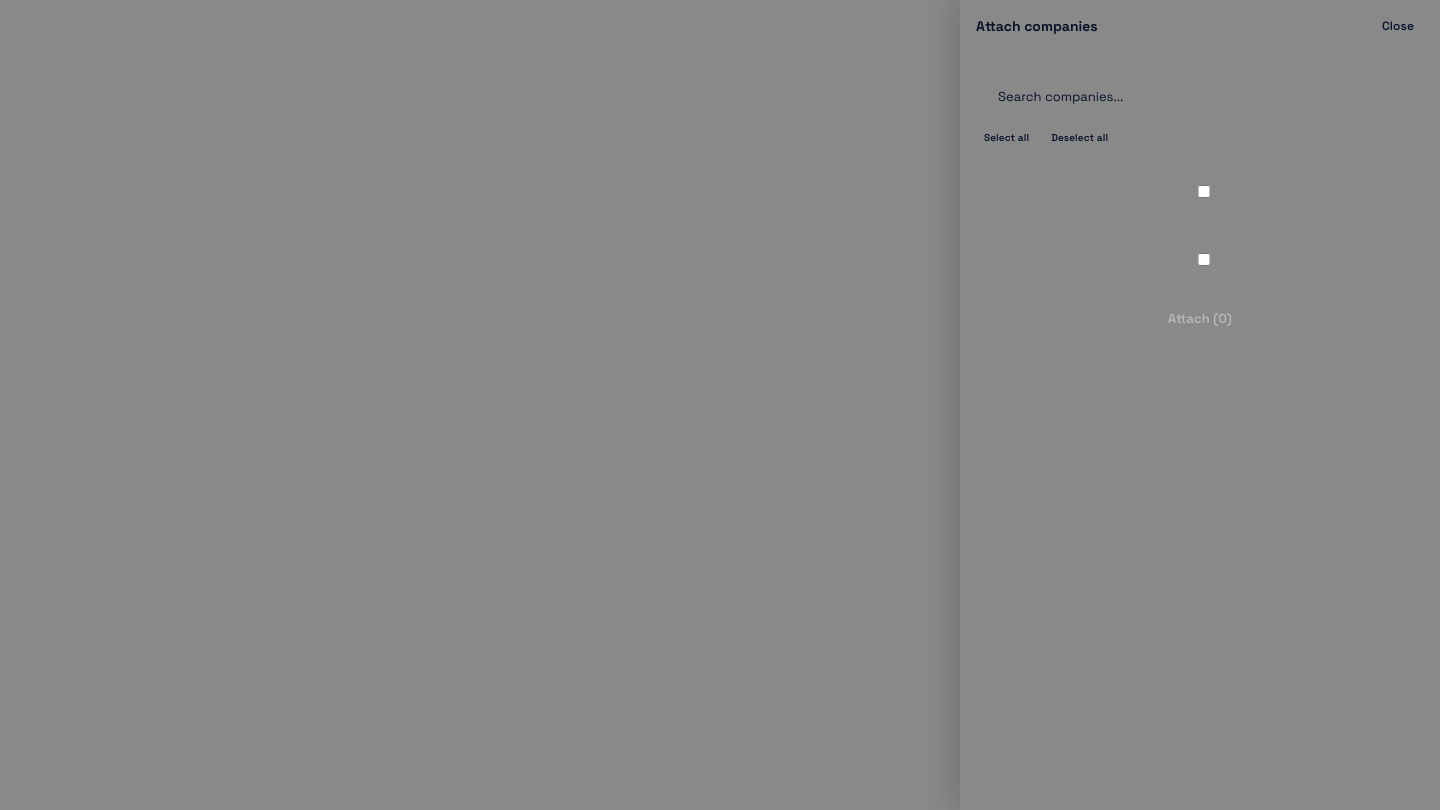
Scenario: CampaignAttachCompaniesDrawer › shows result after attach
# Select all and attach
Click the button "Select all" at point(1007, 138), box [976,129,1037,146]
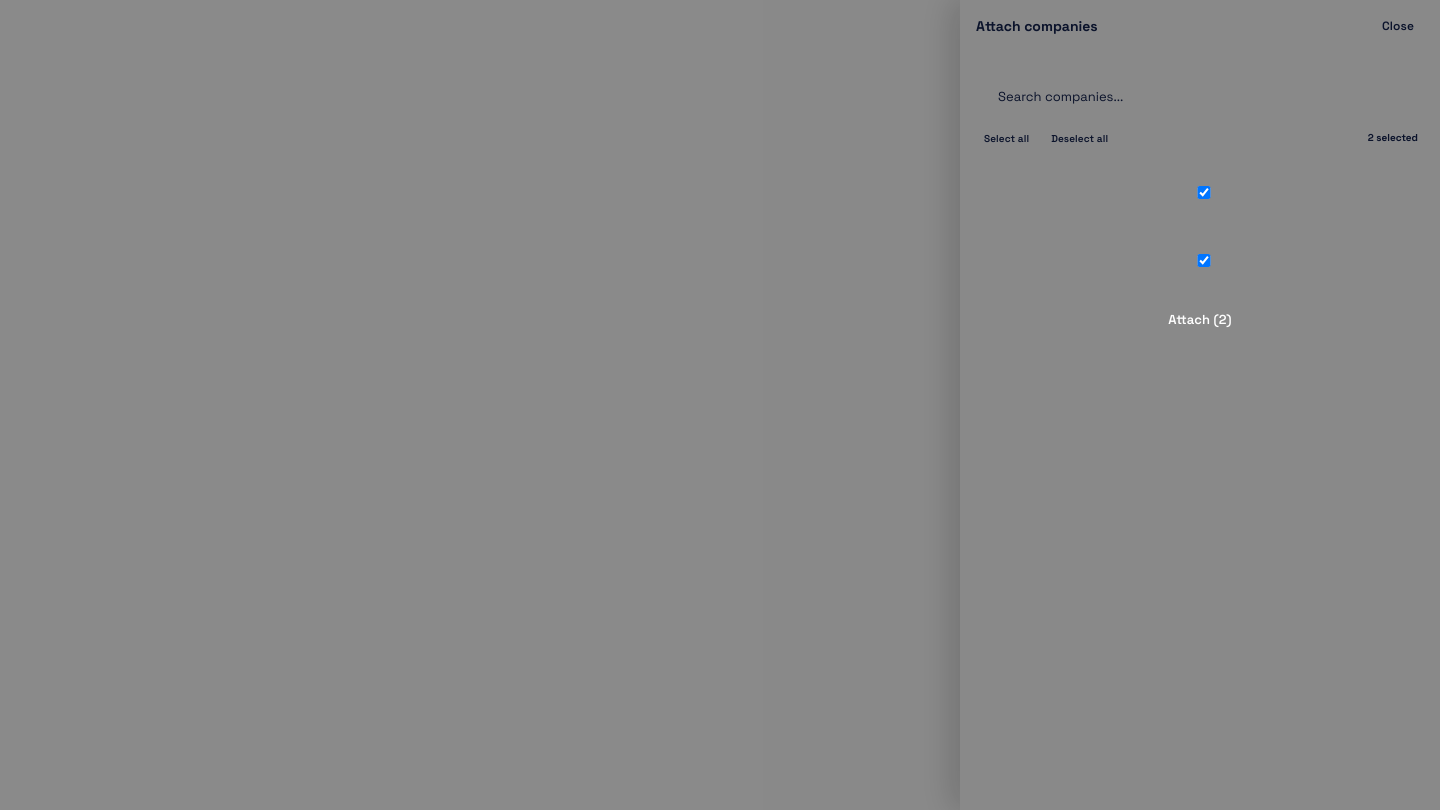
Click the button "Attach (2)" at point(1200, 320), box [976,305,1424,334]
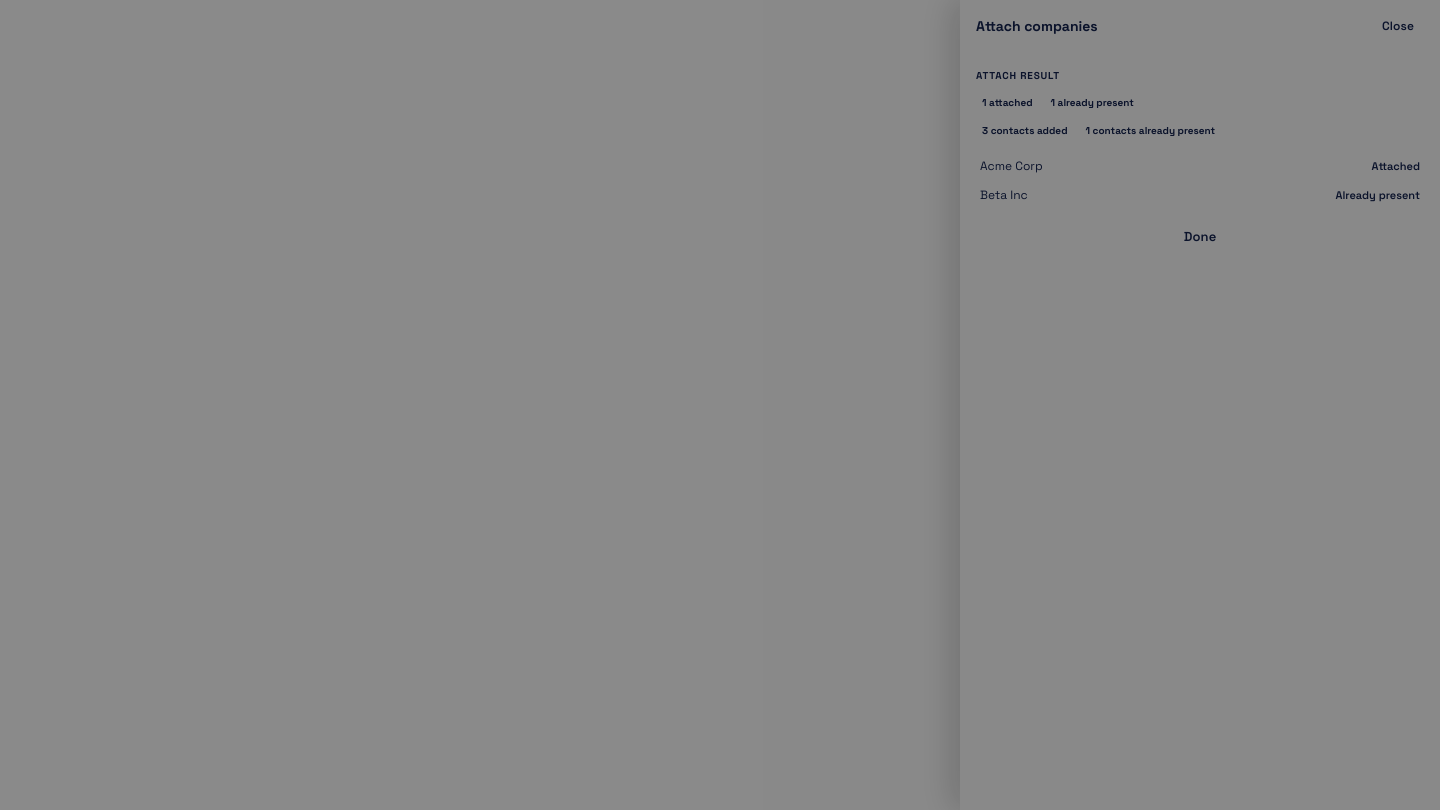
Check: the heading "Attach result" is shown, box [976,69,1060,82]
Check: the text "1 attached" is shown, box [982,96,1032,109]
Check: the text "1 already present" is shown, box [1044,94,1140,112]
